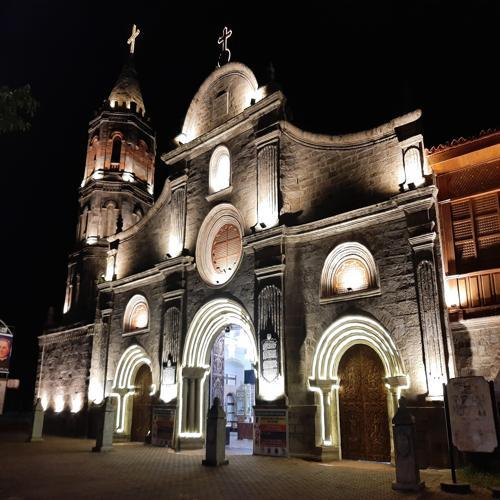Barasoain Church: (38, 23, 457, 471)
